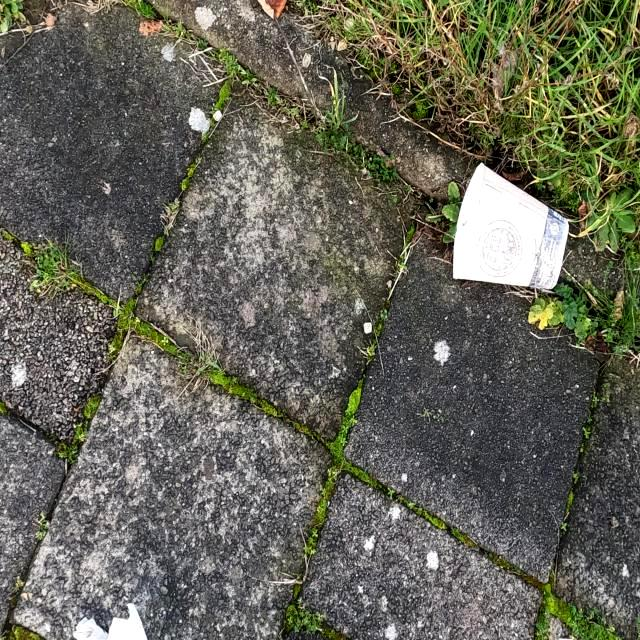Coffee Cup: (433, 150, 579, 302)
